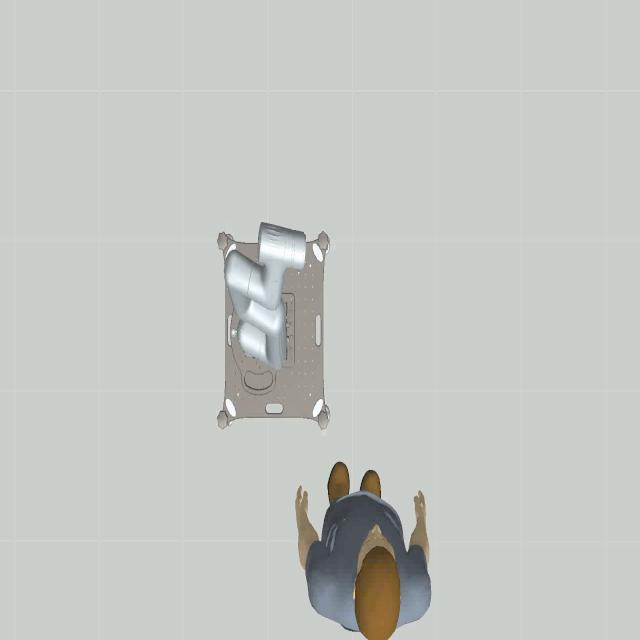human: (294, 462, 431, 640)
robot: (216, 222, 322, 382)
